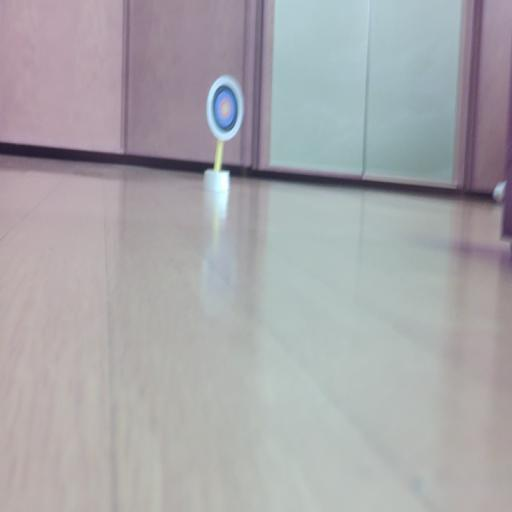target: (206, 75, 244, 142)
